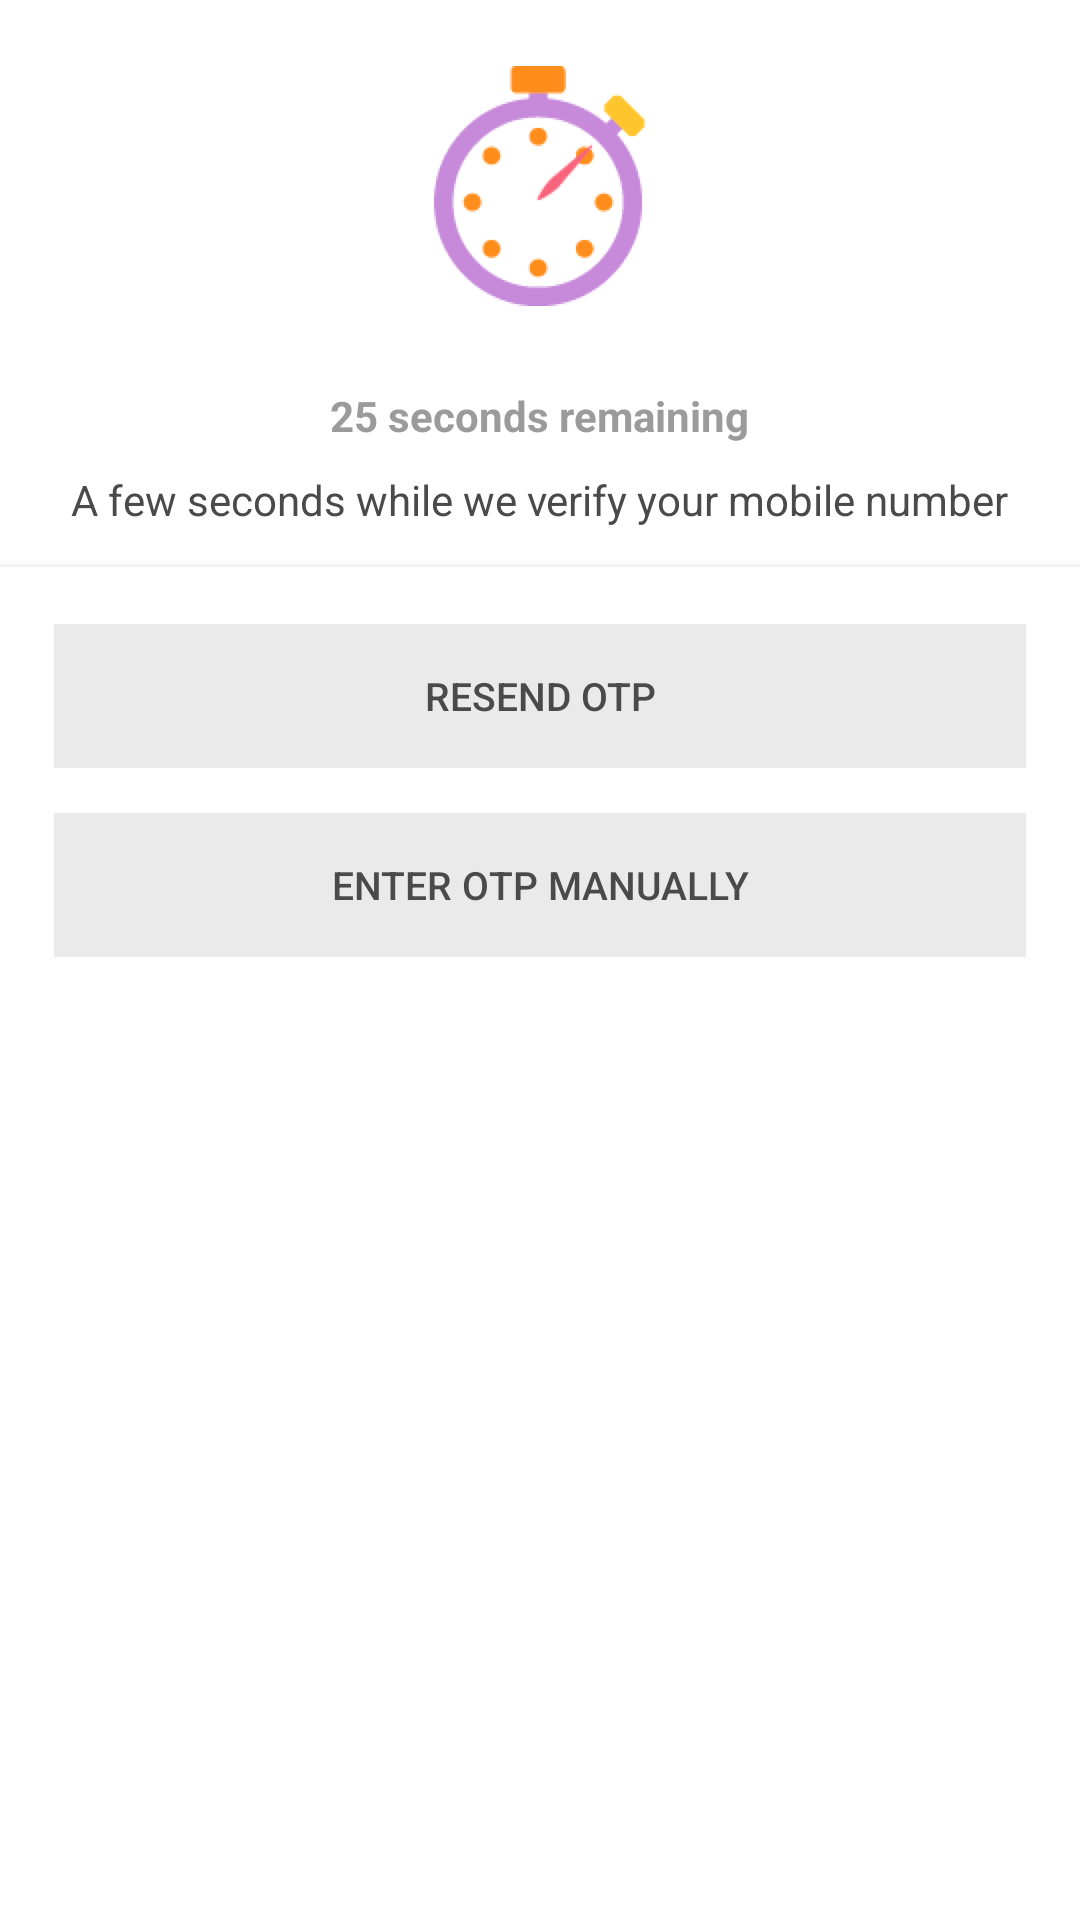

Icon click points for this 1080×1920 phone screenshot, format (x=x, y=y):
timerimage: (x=540, y=186)
